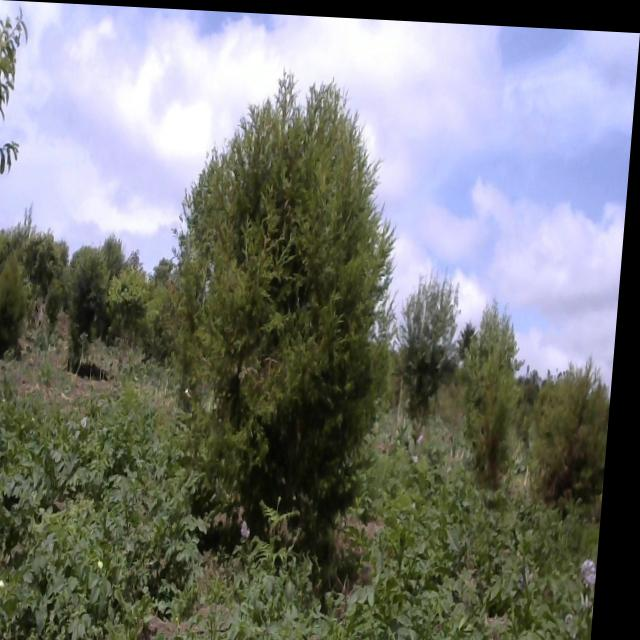cedrus: (165, 62, 412, 580)
